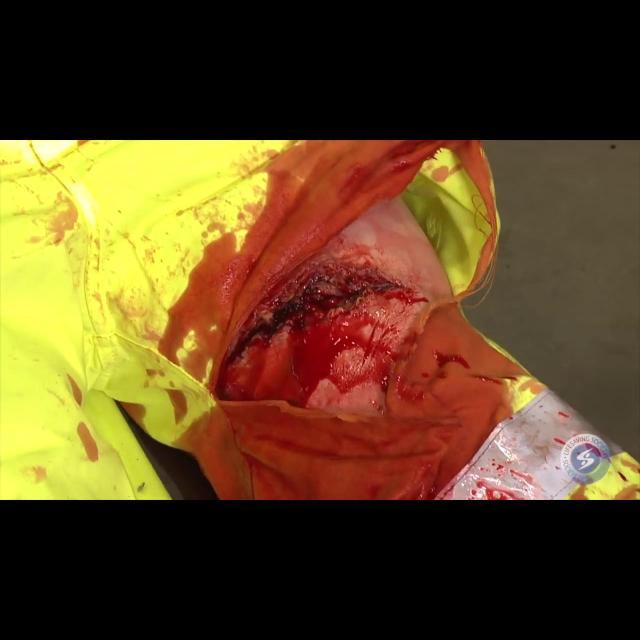blood: (160, 140, 447, 388), (216, 258, 430, 416), (388, 302, 542, 495), (220, 400, 484, 499), (312, 196, 453, 301), (442, 140, 499, 288), (176, 405, 254, 499), (393, 298, 480, 374), (50, 196, 77, 244), (76, 422, 98, 462), (165, 388, 187, 424), (120, 402, 146, 429), (66, 374, 82, 406)
